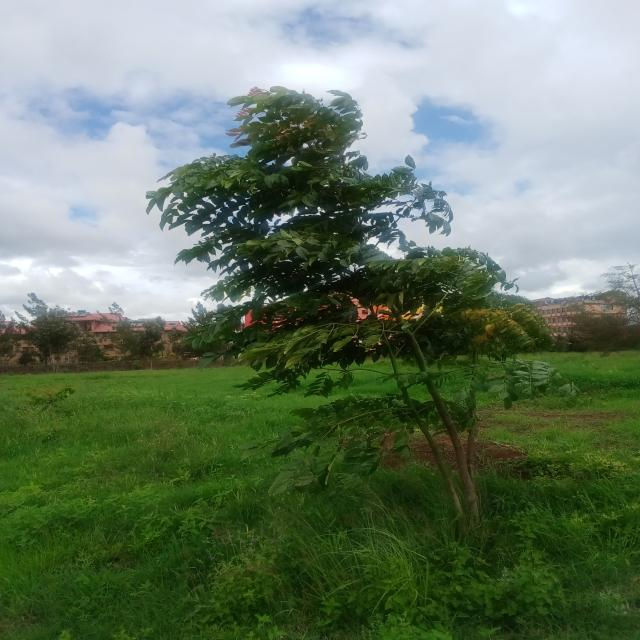Polyscias Kikuyensis: (142, 80, 588, 532)
